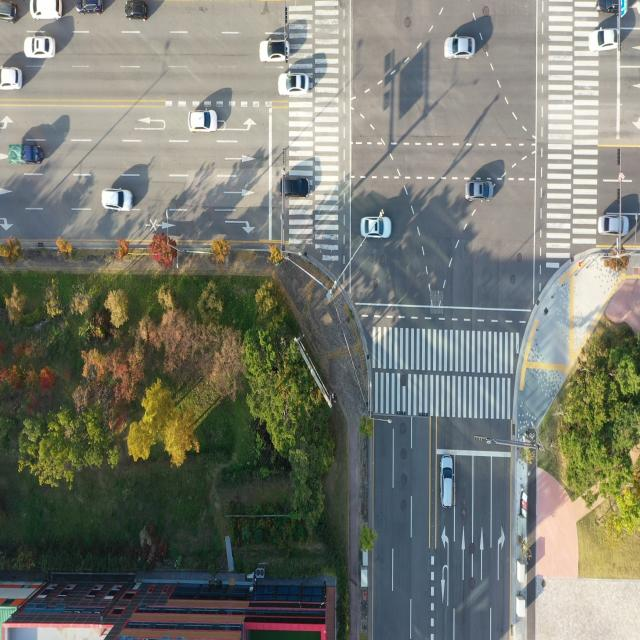car: (587, 27, 621, 58), (260, 36, 292, 66), (25, 30, 56, 59), (186, 108, 224, 130), (597, 212, 631, 236), (0, 60, 23, 95), (468, 176, 496, 203), (279, 72, 309, 97), (442, 455, 455, 510), (444, 40, 476, 62), (30, 0, 65, 20), (360, 215, 389, 239), (101, 189, 130, 212), (281, 176, 308, 198), (125, 0, 150, 22), (77, 0, 106, 18), (0, 0, 18, 21), (596, 0, 622, 14)
small_truck: (8, 140, 44, 168)
